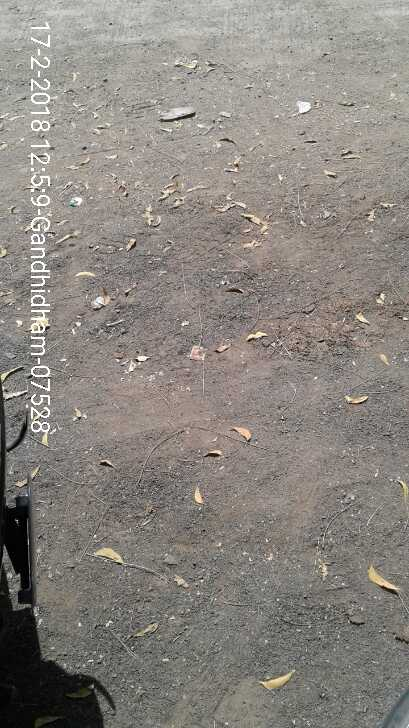reject: (163, 339, 260, 458)
